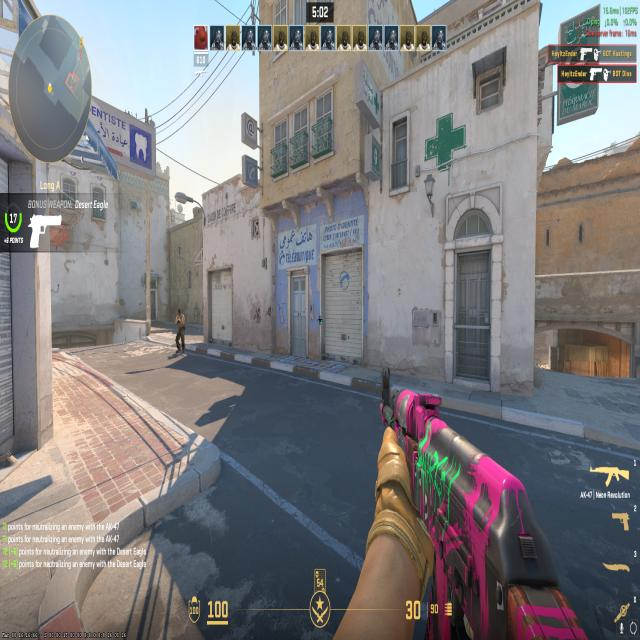t: (172, 306, 187, 356)
